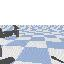drone: (0, 25, 18, 56)
